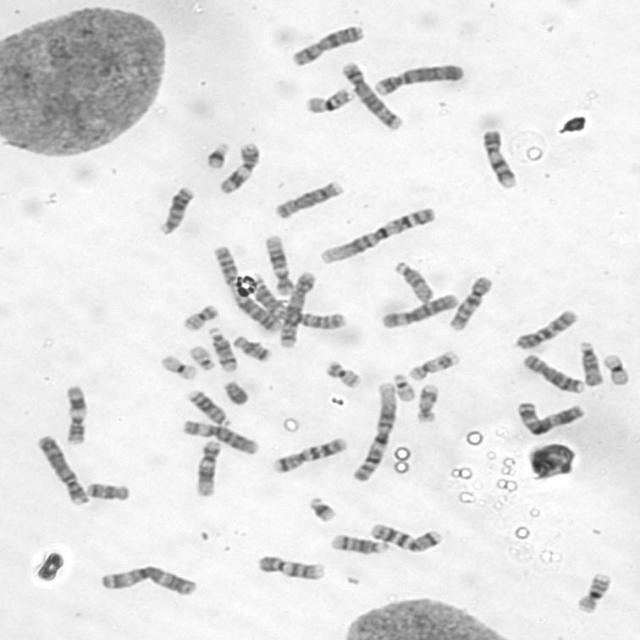A1: (318, 205, 438, 267), (351, 382, 397, 481)
A2: (212, 244, 282, 334), (248, 273, 348, 329)
A3: (99, 564, 200, 596), (517, 400, 587, 436)
B4: (36, 434, 91, 507), (372, 64, 467, 98)
B5: (342, 60, 404, 132), (278, 271, 318, 349)
C10: (515, 309, 579, 351), (448, 275, 491, 332)
C11: (216, 141, 262, 195), (62, 385, 90, 445)
C12: (265, 234, 295, 296), (194, 440, 222, 498)
C6: (181, 418, 260, 456), (381, 293, 459, 329)
C7: (273, 436, 348, 474), (370, 523, 445, 553)
C8: (272, 180, 346, 221), (523, 354, 586, 394)
C9: (478, 128, 520, 189), (256, 554, 326, 582)
D13: (158, 186, 194, 238), (187, 388, 233, 428)
D14: (207, 326, 239, 374), (330, 533, 390, 556)
D15: (394, 262, 434, 306), (578, 340, 604, 388)
E16: (576, 573, 613, 615), (303, 85, 354, 115)
E17: (406, 349, 460, 382), (416, 382, 440, 423)
E18: (232, 332, 271, 362), (85, 479, 130, 502)
F19: (159, 354, 198, 380), (604, 353, 632, 388)
F20: (182, 302, 222, 333), (325, 359, 364, 389)
G21: (309, 496, 339, 524), (207, 142, 230, 171)
G22: (392, 372, 416, 403), (189, 344, 216, 371)
X: (290, 23, 366, 66)
Y: (221, 379, 251, 407)
